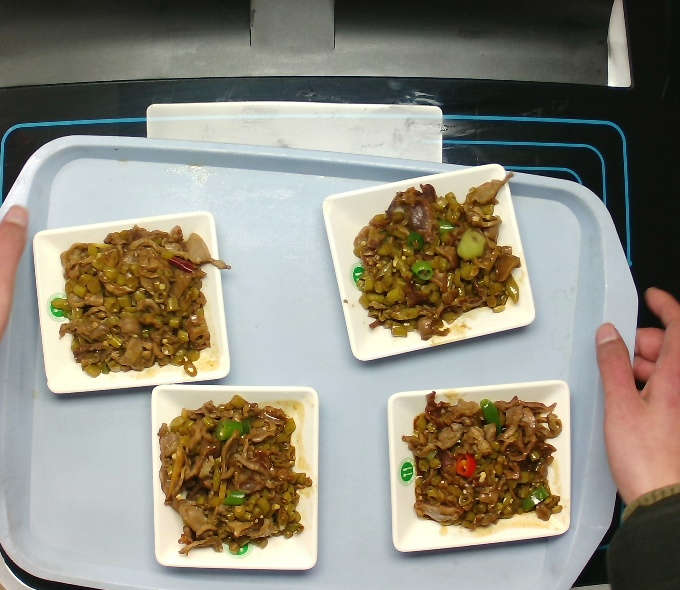wcq-JiZhen: (345, 169, 531, 344), (50, 223, 230, 378), (152, 394, 317, 558), (404, 388, 568, 532)
